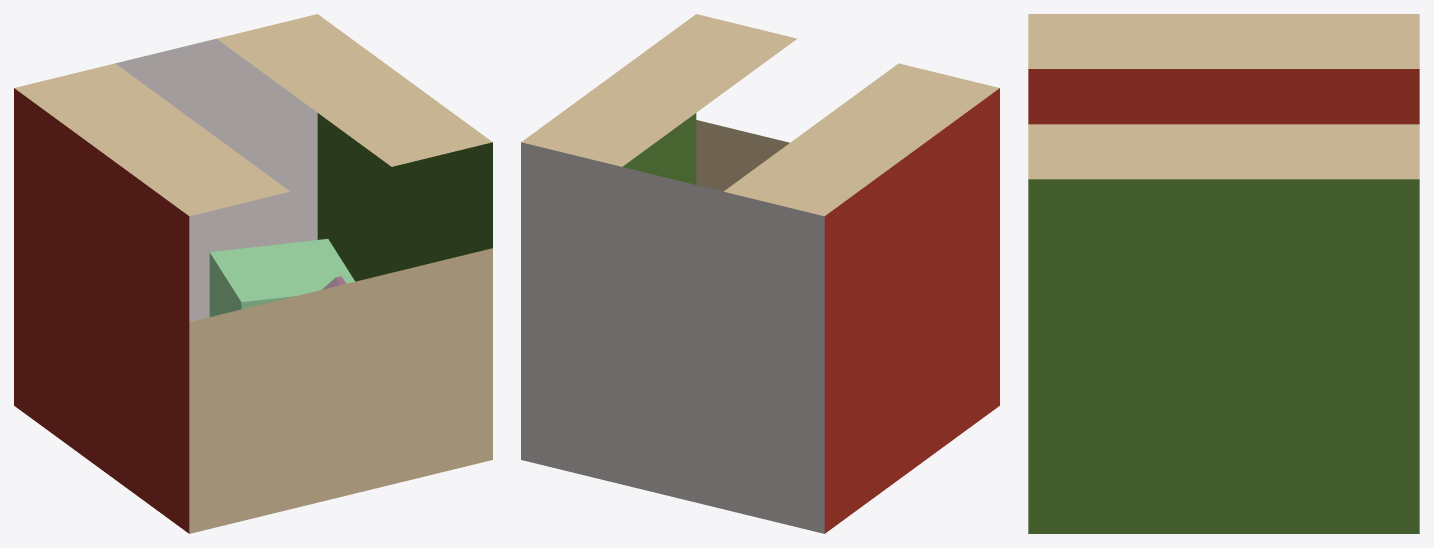
The model's file is cornell-box.fbx.
3 views of the same model, side by side, from view 1: azimuth 30°, elevation 25°; view 2: azimuth 150°, elevation 25°; view 3: azimuth 270°, elevation 25° (orthographic). The views are drawn at different scales.
Visible parts, largest first — view 1: down_face.003, left_face, back_face, right_face, down_face.002, down_face.001, cube_short; view 2: back_face, left_face, down_face.002, down_face.001, down_face.003, right_face; view 3: right_face, down_face.002, left_face, down_face.001.
Boxes of the visible parts, <box> form: down_face.003: <box>189,248,492,533</box>; left_face: <box>14,88,189,533</box>; back_face: <box>115,38,317,321</box>; right_face: <box>317,113,492,281</box>; down_face.002: <box>217,14,492,166</box>; down_face.001: <box>14,63,289,216</box>; cube_short: <box>209,239,354,316</box>; back_face: <box>521,142,824,533</box>; left_face: <box>824,88,999,533</box>; down_face.002: <box>521,14,796,166</box>; down_face.001: <box>724,63,999,216</box>; down_face.003: <box>696,120,789,191</box>; right_face: <box>622,113,696,184</box>; right_face: <box>1028,179,1419,533</box>; down_face.002: <box>1028,124,1419,179</box>; left_face: <box>1028,69,1419,124</box>; down_face.001: <box>1028,14,1419,68</box>.
Size of the model in its own units: 600 by 600 by 600.
